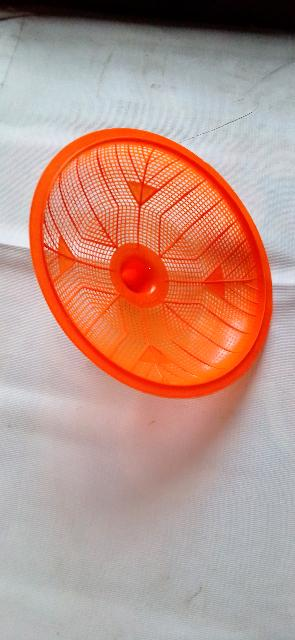hardplastic: (26, 128, 278, 403)
